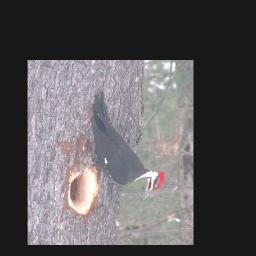Woodpecker: (75, 91, 168, 200)
